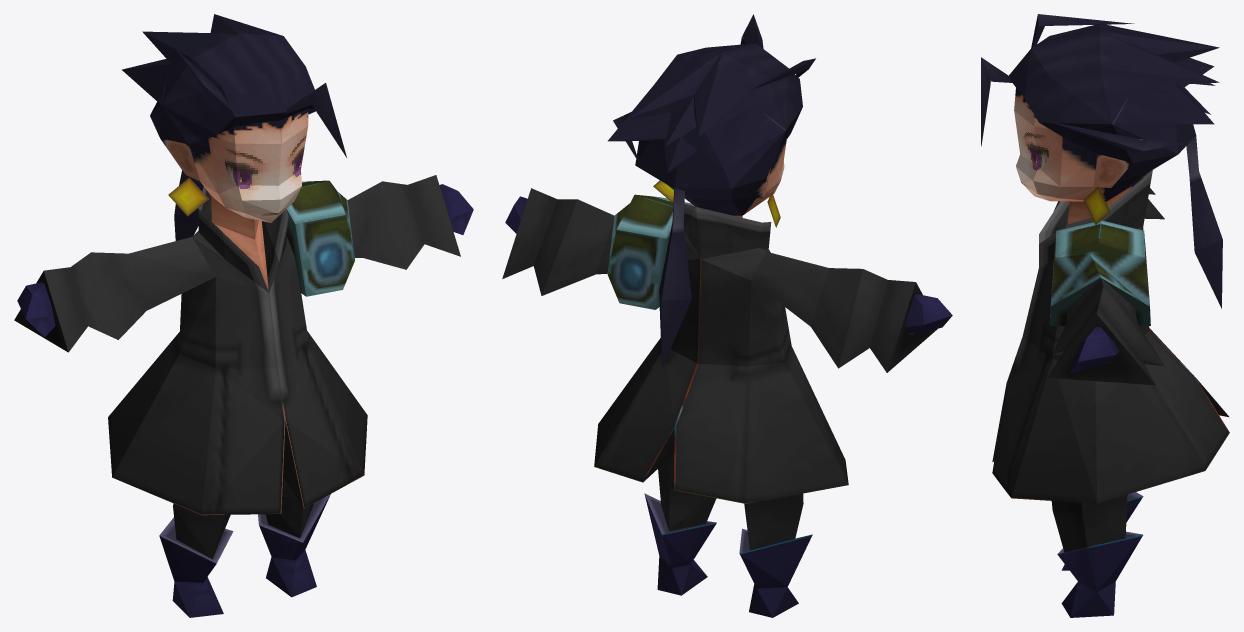
The model's file is BruceWayne.obj.
3 views of the same model, side by side, from view 1: azimuth 30°, elevation 25°; view 2: azimuth 150°, elevation 25°; view 3: azimuth 270°, elevation 25° (orthographic). The views are drawn at different scales.
Parts seen in each view (by area): view 1: Batman; view 2: Batman; view 3: Batman.
Part boxes in pixels (left/top/right/bottom): Batman: left=14, top=14, right=473, bottom=617; Batman: left=502, top=14, right=952, bottom=617; Batman: left=981, top=14, right=1229, bottom=617.
Bounding box in the file's own units: 12.05 × 14.33 × 5.82.
3 materials, 3 textured.
